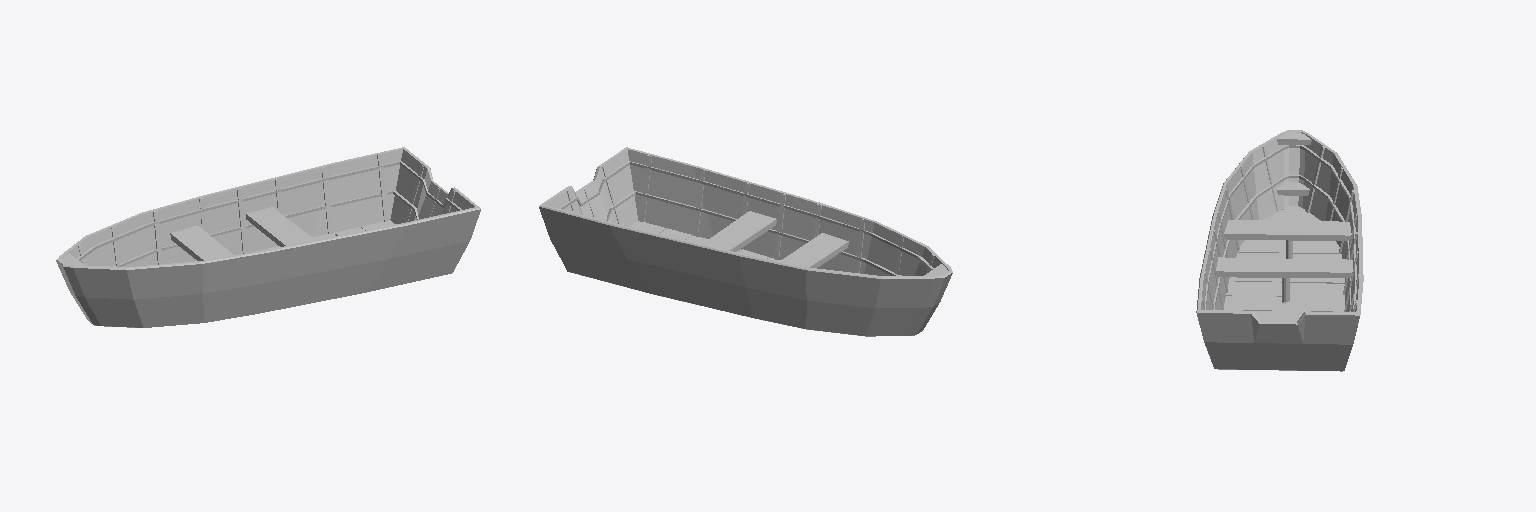
The model's file is boat.obj.
3 renders of one model, left to right at view 1: azimuth 30°, elevation 25°; view 2: azimuth 150°, elevation 25°; view 3: azimuth 270°, elevation 25°, orthographic.
Parts seen in each view (by area): view 1: SM_Wooden_Boat_1_JFG; view 2: SM_Wooden_Boat_1_JFG; view 3: SM_Wooden_Boat_1_JFG.
Part boxes in pixels (left/top/right/bottom): SM_Wooden_Boat_1_JFG: left=56, top=147, right=480, bottom=327; SM_Wooden_Boat_1_JFG: left=539, top=147, right=952, bottom=336; SM_Wooden_Boat_1_JFG: left=1196, top=130, right=1363, bottom=371.
Bounding box in the file's own units: 9.74 × 1.67 × 3.73.